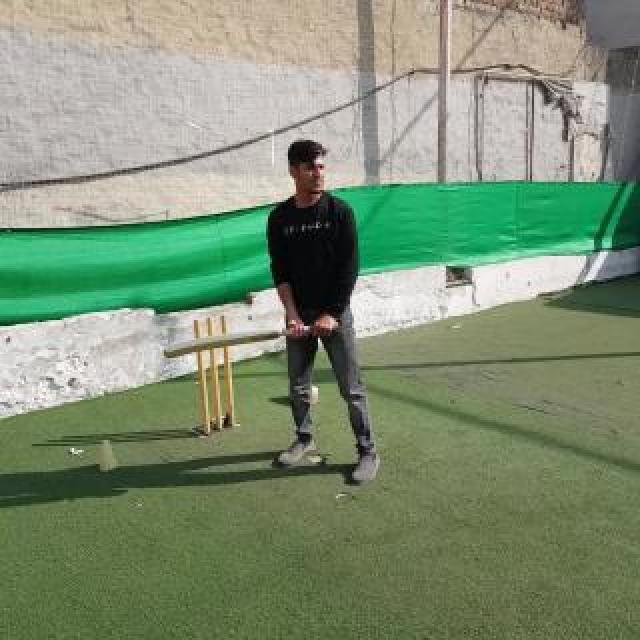bat: (164, 322, 338, 358)
